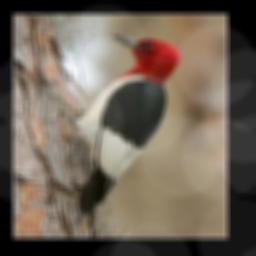Woodpecker: (41, 30, 183, 225)
